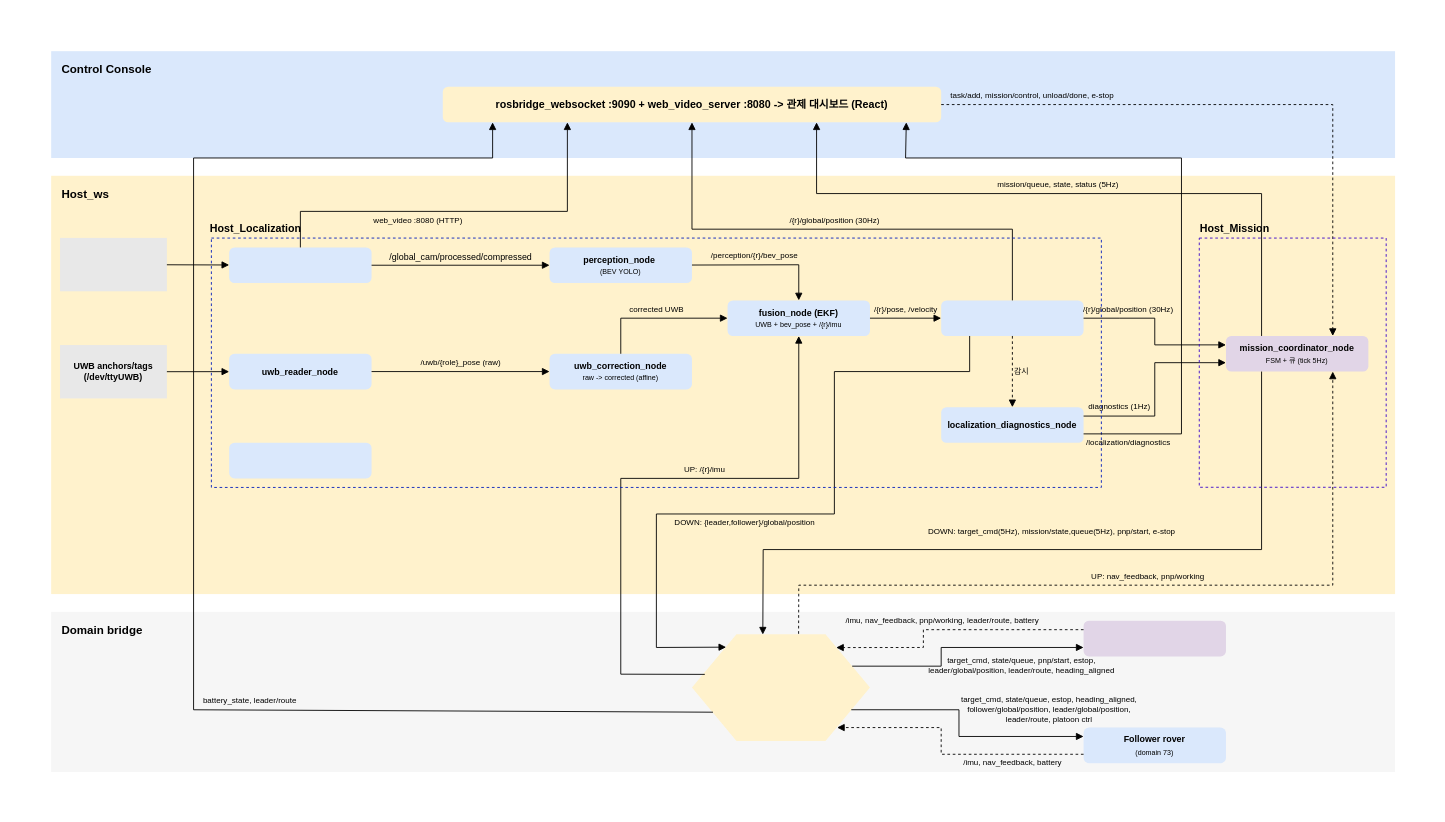
This 1445x822 diagram has some shape labels left out. The shapes that lost their labels are listed below. From the top down, each one's centre as x and y in pixels, then its label:
point (113, 264): 천장 카메라 (/dev/global_cam)
point (300, 265): global_cam_node
point (1012, 318): global_position_node
point (300, 460): anchor_publisher_node
point (1154, 638): Leader rover (domain 25)
point (781, 687): domain_bridge sensor x2 + global_pos x2 + mission x4 host 30 ↔ rovers 25 / 73
